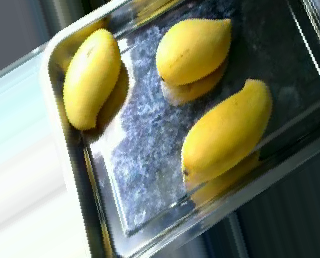Mango: (180, 76, 275, 188), (62, 24, 123, 133), (154, 14, 236, 91)
